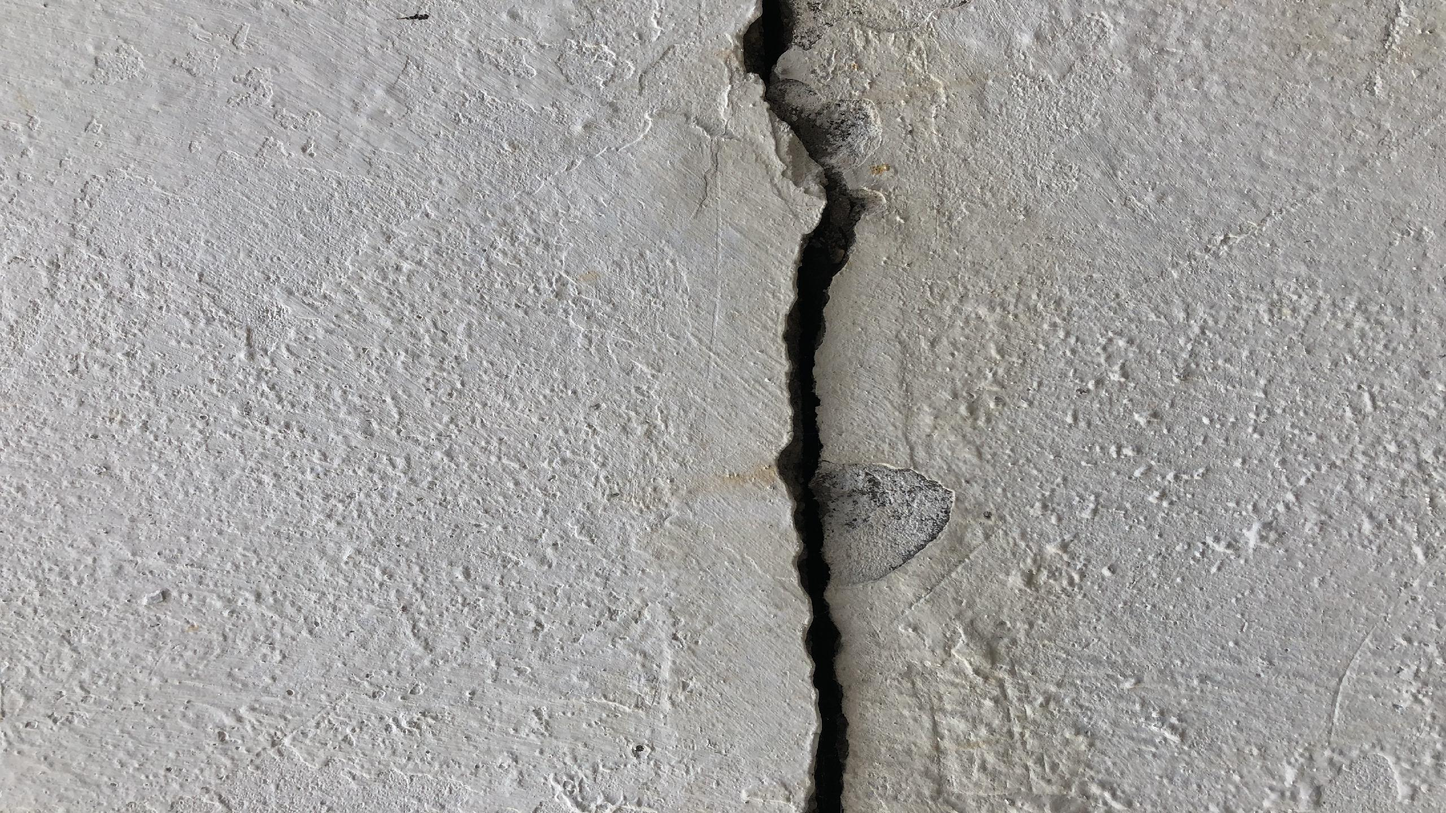crack: (742, 1, 865, 812)
